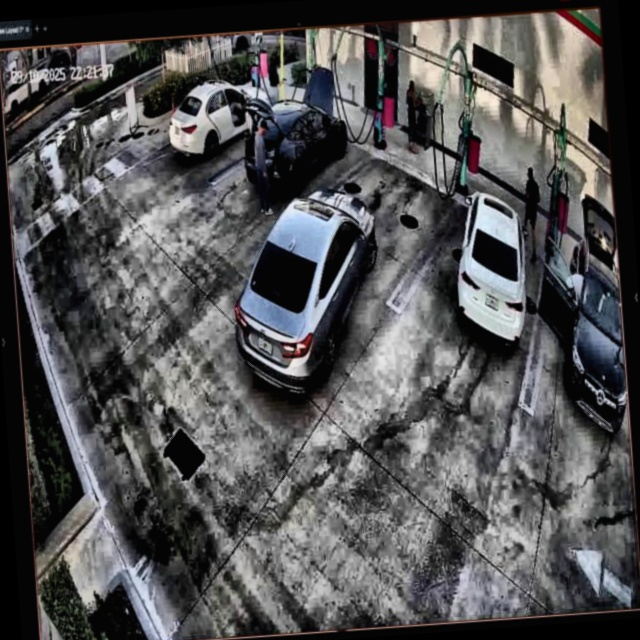Car: (228, 184, 389, 394), (238, 66, 352, 197), (445, 179, 529, 347), (164, 77, 273, 169)
